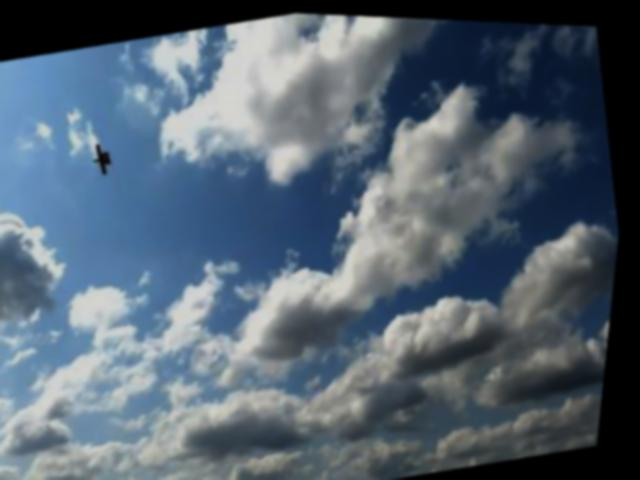uav: (88, 136, 123, 184)
